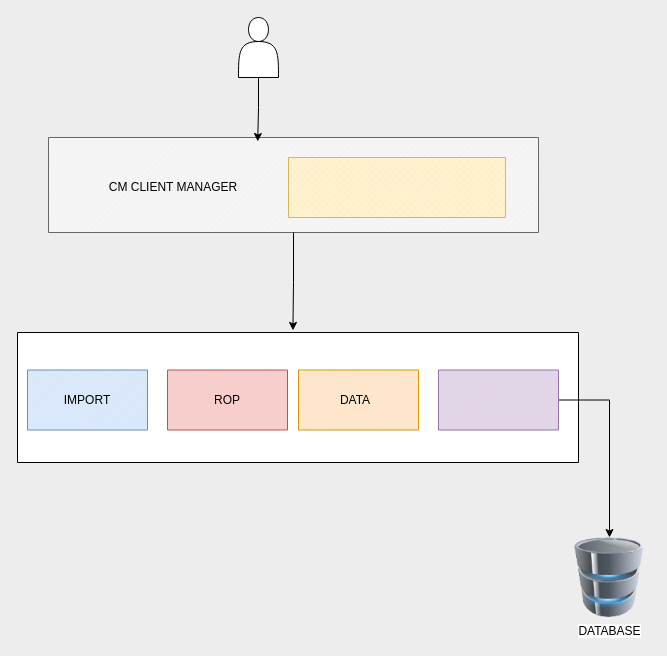
Some shapes in this 667 by 656 pixel diagram are drawn without their labels. The shapes that lost their labels are listed below. From the top down, each one's centre as x and y in pixels, then its label:
At point (397, 187): "CM CLIENT MANAGER BUILDER".
At point (498, 399): "EXPORT".
